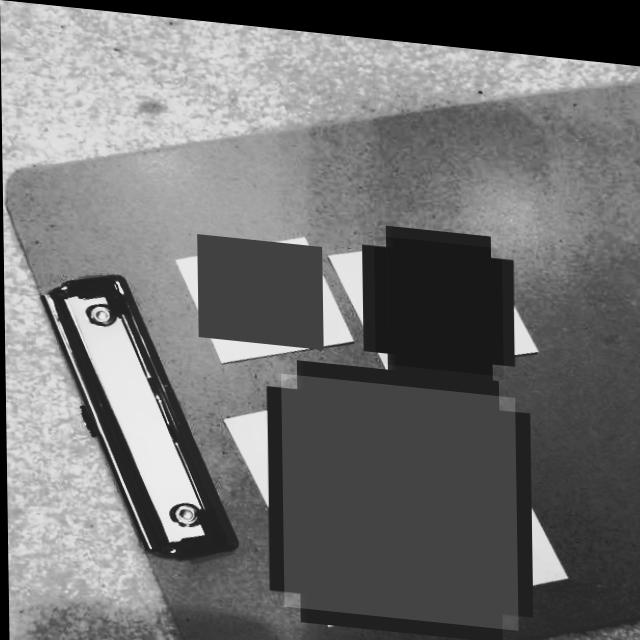qr_code: (280, 368, 517, 620), (373, 227, 503, 366), (196, 230, 323, 343)
